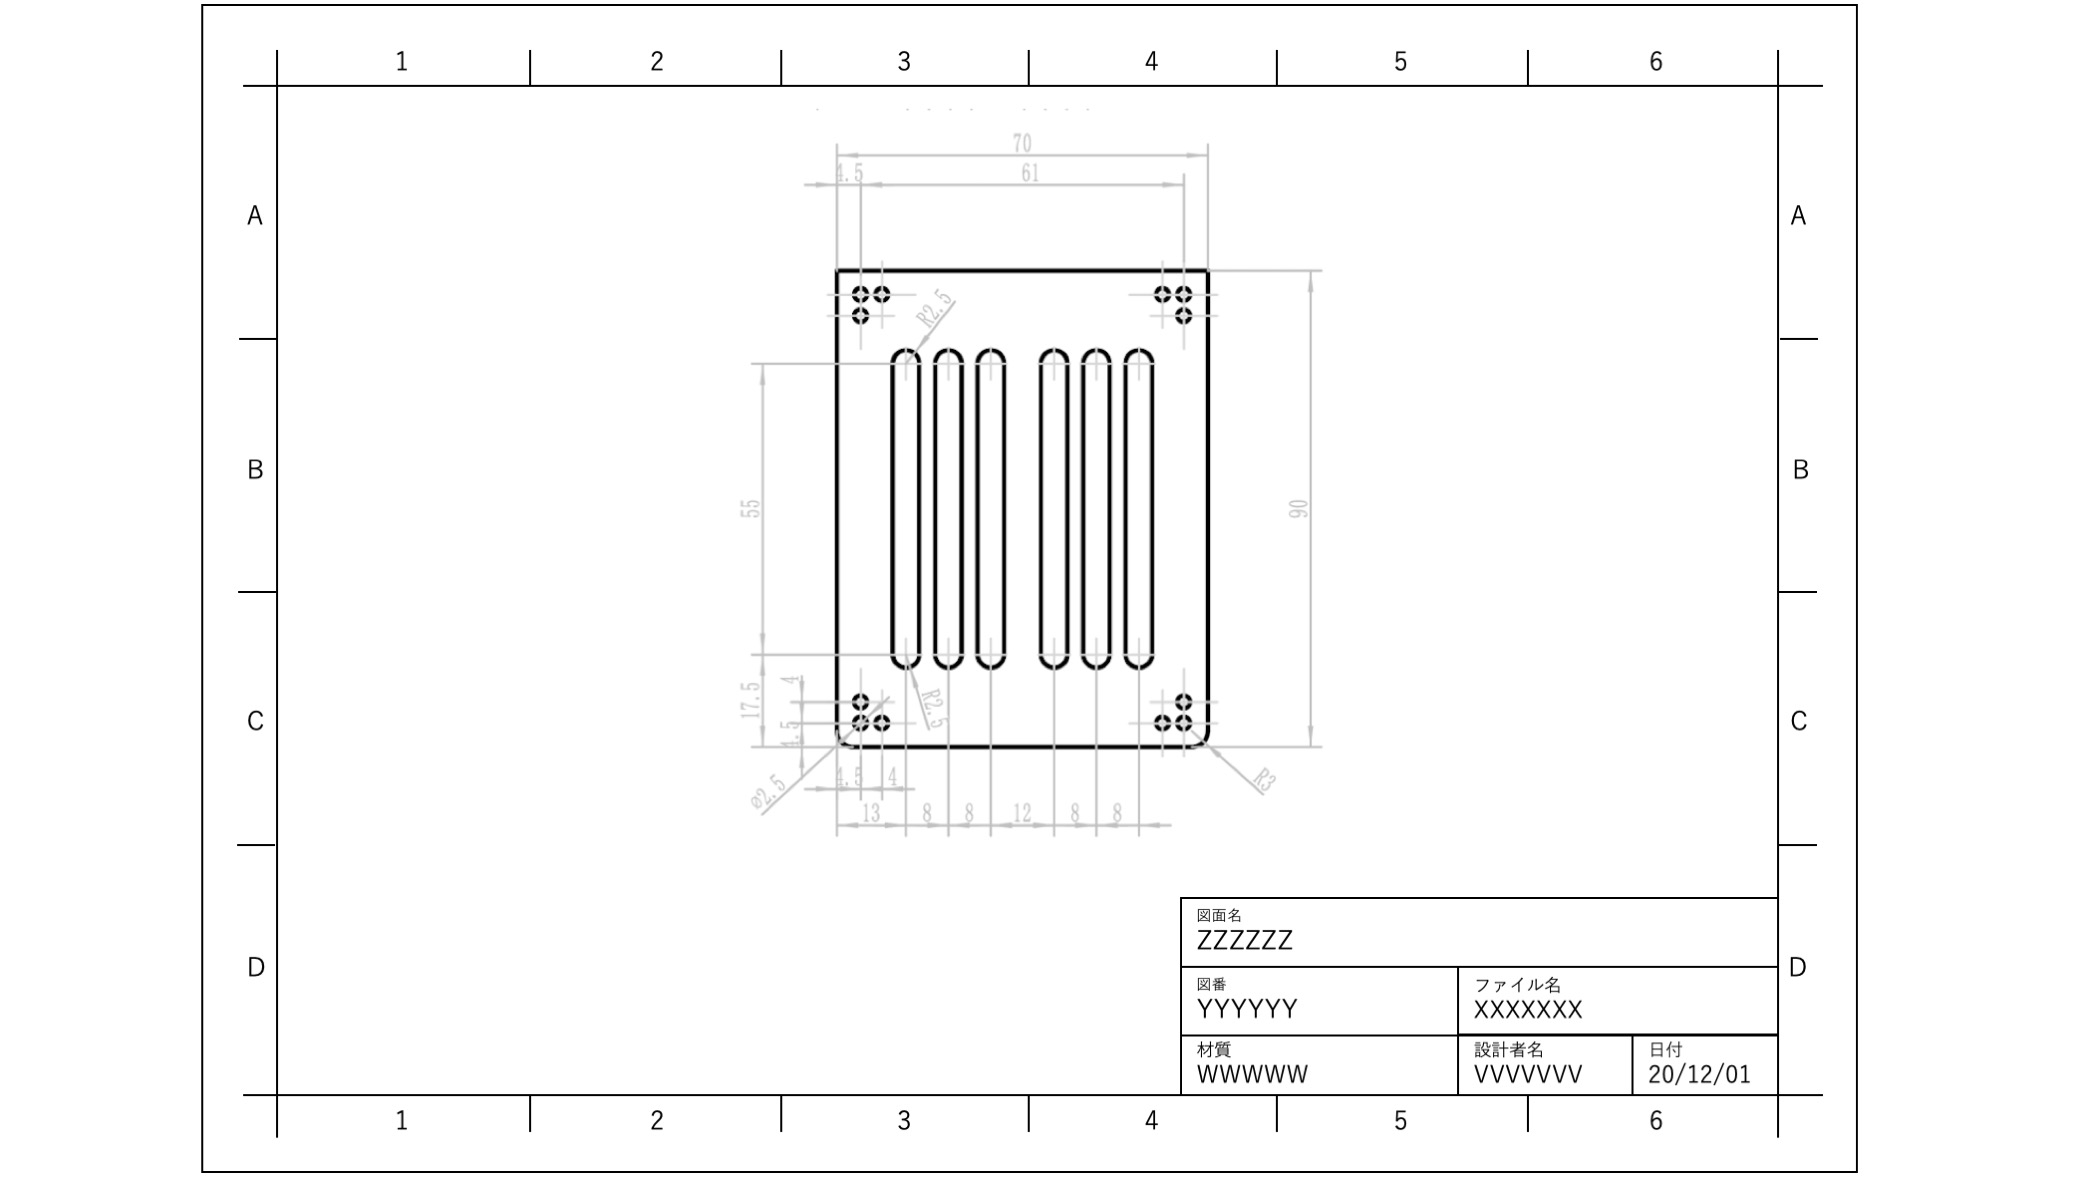circle: (1150, 280, 1173, 309), (850, 686, 874, 712), (1173, 686, 1196, 712), (1150, 708, 1171, 734), (871, 708, 891, 734), (1174, 278, 1191, 307), (1174, 709, 1196, 733), (850, 278, 870, 303), (850, 712, 870, 735), (850, 303, 870, 324), (873, 281, 891, 303), (1173, 306, 1194, 324)
round_rectangle: (884, 340, 925, 673), (927, 339, 968, 671), (1036, 337, 1073, 671), (1077, 337, 1113, 675), (972, 342, 1007, 671), (1122, 337, 1155, 673)
